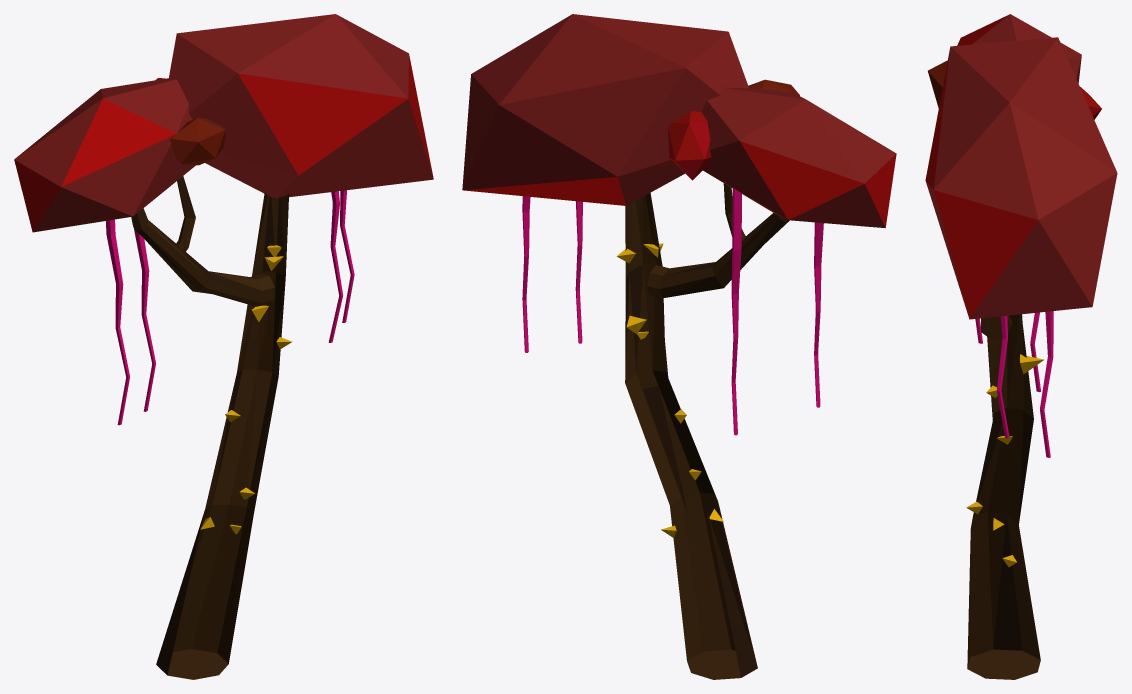
File: LowPolyTree01-Level03.fbx
The picture shows the model from 3 angles, left to right: view 1: azimuth 30°, elevation 25°; view 2: azimuth 150°, elevation 25°; view 3: azimuth 270°, elevation 25°; orthographic projection. The views are drawn at different scales.
Parts seen in each view (by area): view 1: Cone.005; view 2: Cone.005; view 3: Cone.005.
Boxes of the visible parts, <box> form: Cone.005: <box>14,14,433,679</box>; Cone.005: <box>462,14,896,679</box>; Cone.005: <box>925,14,1117,679</box>.
Size of the model in its own units: 411 by 611 by 167.
